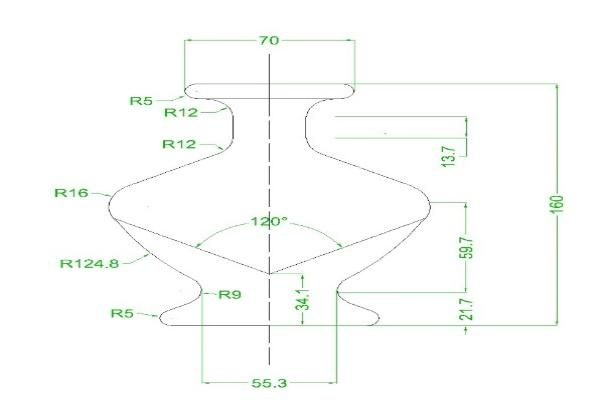dimensions: (53, 254, 123, 273), (39, 182, 96, 202), (154, 134, 205, 154), (451, 233, 480, 266), (250, 372, 290, 395), (451, 295, 482, 324), (290, 284, 317, 316), (208, 284, 250, 303), (438, 140, 460, 176), (160, 104, 202, 121), (544, 190, 567, 219), (120, 93, 159, 110), (251, 30, 286, 48), (100, 306, 140, 320)
